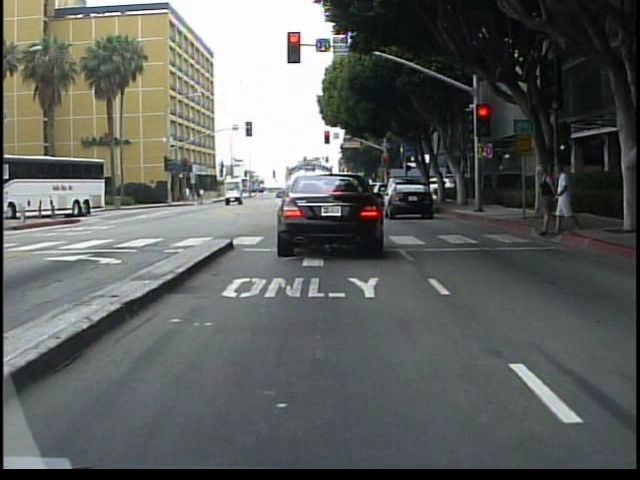person: (553, 160, 577, 239), (534, 163, 555, 237)
